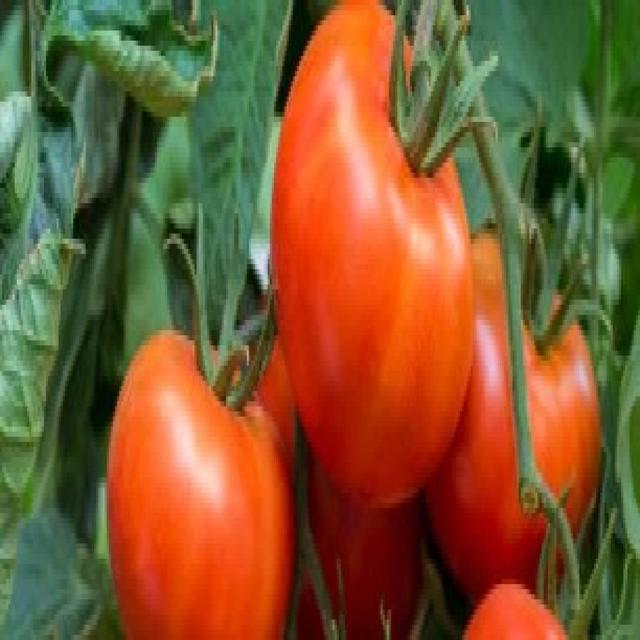Healthy Fruit: (127, 156, 336, 320)
